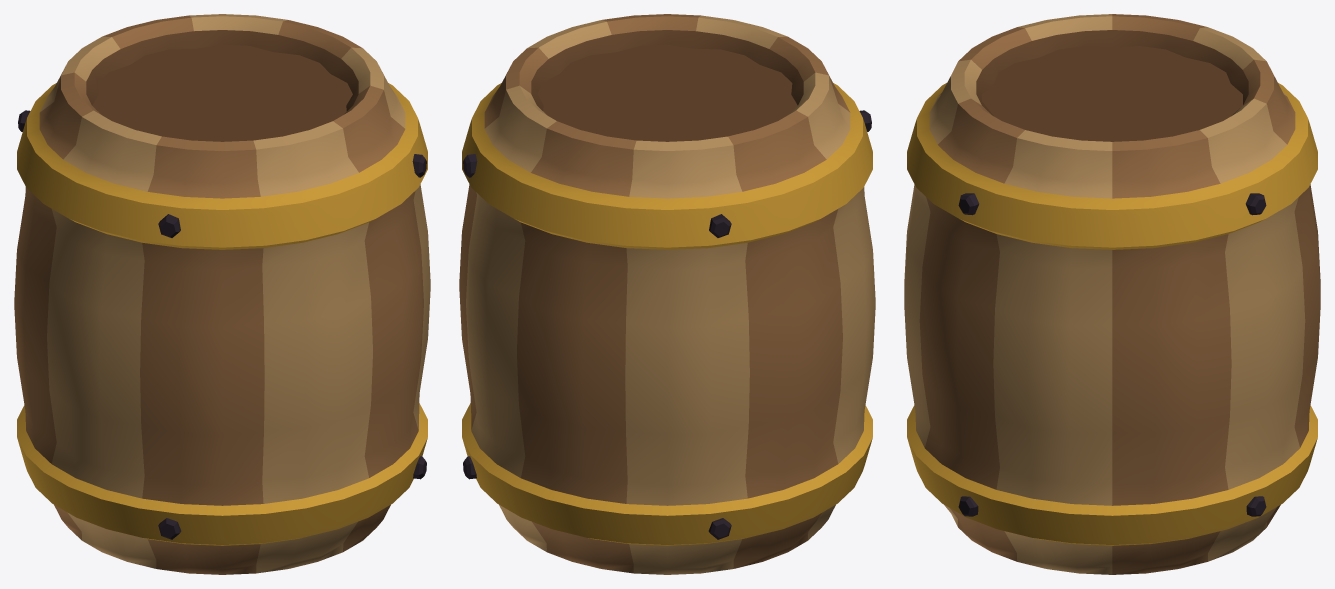
Rendered from Barrel_14.glb.
3 views of the same model, side by side, from view 1: azimuth 30°, elevation 25°; view 2: azimuth 150°, elevation 25°; view 3: azimuth 270°, elevation 25° (orthographic).
Visible parts, largest first — view 1: Barrel_14; view 2: Barrel_14; view 3: Barrel_14.
Boxes of the visible parts, x1,y1,x2,y2 form: Barrel_14: (14, 14, 430, 574); Barrel_14: (459, 14, 875, 574); Barrel_14: (904, 14, 1320, 574).
Bounding box in the file's own units: 2.13 × 2.45 × 2.15.
